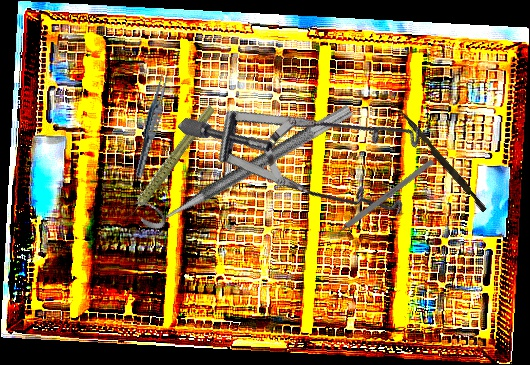Fixation Ring: (132, 86, 354, 235)
Handpiece: (101, 103, 235, 222)
Hook Surgical: (325, 158, 435, 244)
Pusher: (394, 108, 490, 213)
Speculum: (176, 5, 453, 282)
Tissue Forceps: (132, 67, 173, 180)
